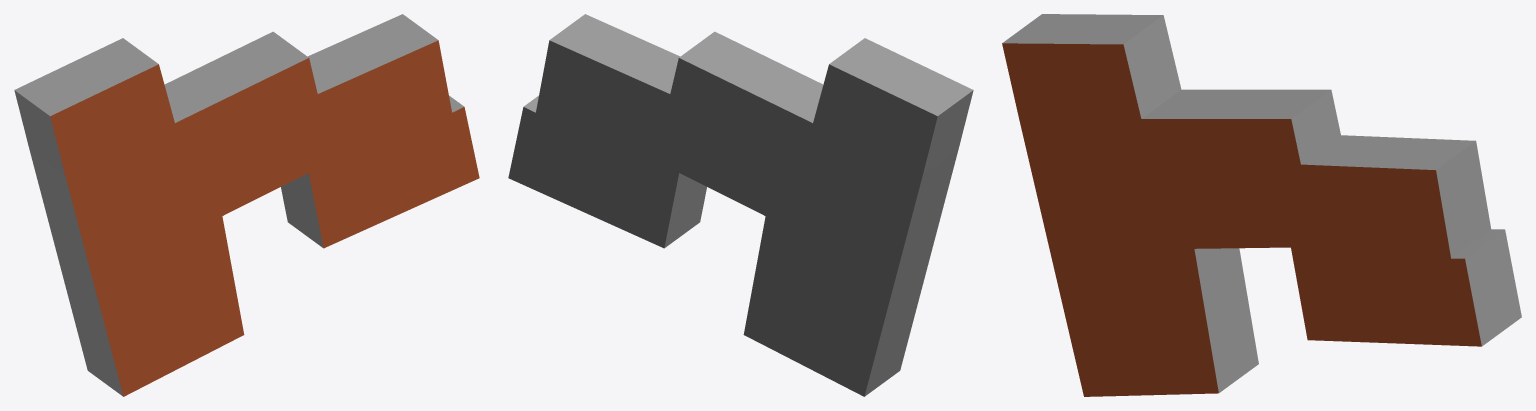
Rendered from construction_5008_assumed_A_Casa_h6m.obj.
The picture shows the model from 3 angles, left to right: view 1: azimuth 30°, elevation 25°; view 2: azimuth 150°, elevation 25°; view 3: azimuth 330°, elevation 25°; orthographic projection. The views are drawn at different scales.
Parts seen in each view (by area): view 1: construction_5008_assumed_A_Casa; view 2: construction_5008_assumed_A_Casa; view 3: construction_5008_assumed_A_Casa.
Part boxes in pixels (x1,y1,x2,y2): construction_5008_assumed_A_Casa: (14,14,479,396); construction_5008_assumed_A_Casa: (508,14,973,396); construction_5008_assumed_A_Casa: (1002,14,1521,396).
Size of the model in its own units: 41.46 by 29.9 by 6.
